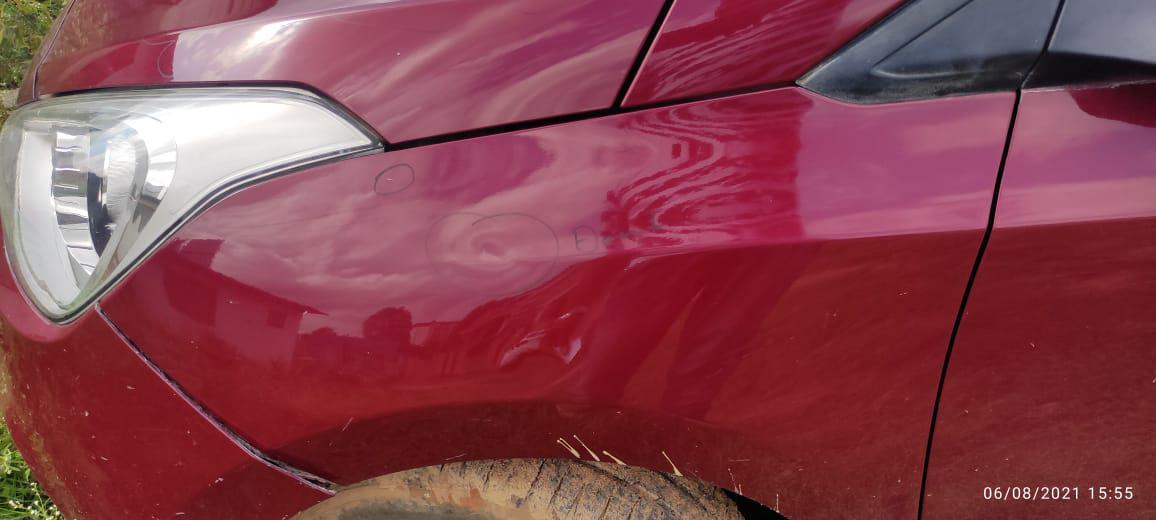fender-dent: (218, 134, 979, 519)
